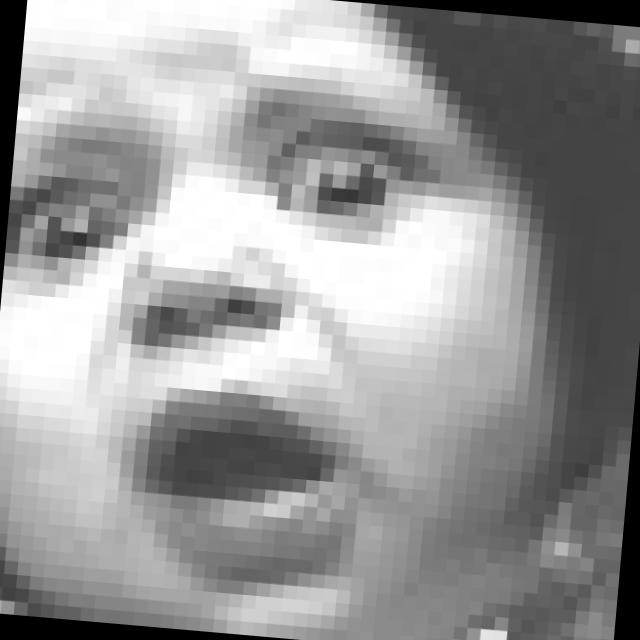fear: (0, 0, 486, 619)
